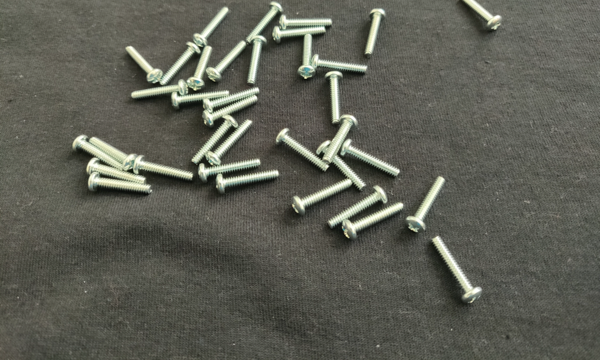longscrew: (432, 236, 484, 306), (327, 185, 389, 230), (316, 140, 368, 191), (275, 128, 331, 173), (342, 202, 405, 241), (191, 115, 240, 165), (340, 139, 401, 178), (206, 119, 255, 167), (291, 178, 354, 215), (406, 176, 446, 234), (71, 134, 124, 171), (159, 42, 202, 87), (88, 136, 139, 172), (202, 96, 259, 128), (323, 115, 359, 164), (207, 40, 248, 83), (245, 1, 284, 46), (85, 158, 147, 185), (214, 169, 280, 194), (132, 155, 194, 181), (125, 44, 164, 85), (198, 157, 261, 182), (203, 87, 261, 114), (194, 6, 229, 49), (460, 0, 504, 33), (87, 172, 153, 194), (131, 78, 189, 101), (363, 8, 387, 59), (188, 45, 214, 91), (171, 90, 230, 110), (311, 54, 369, 74), (324, 71, 345, 126), (247, 35, 269, 86), (272, 25, 327, 44), (279, 14, 333, 33), (298, 34, 317, 80)
